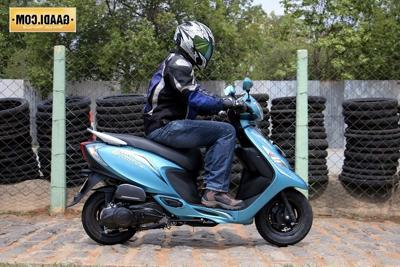With Helmet: (171, 20, 220, 73)
